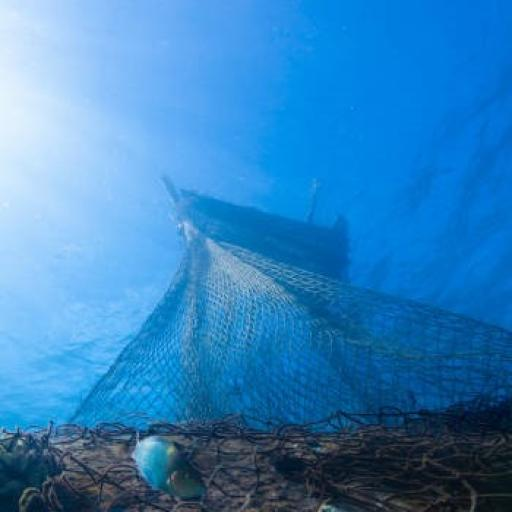net: (26, 177, 512, 499)
